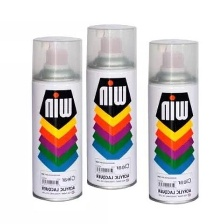aerosol_cans: (27, 32, 85, 204), (83, 18, 140, 192), (146, 35, 203, 206)
